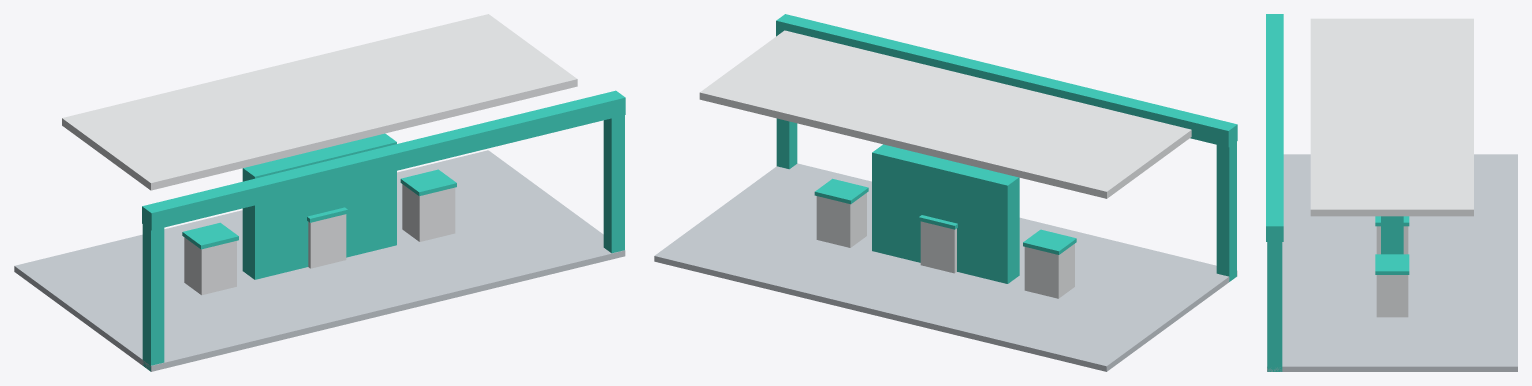
3 renders of one model, left to right at view 1: azimuth 30°, elevation 25°; view 2: azimuth 150°, elevation 25°; view 3: azimuth 270°, elevation 25°, orthographic. The views are drawn at different scales.
Visible parts, largest first — view 1: Exhibition Booth Concept; view 2: Exhibition Booth Concept; view 3: Exhibition Booth Concept.
Boxes of the visible parts, x1,y1,x2,y2 form: Exhibition Booth Concept: (14,14,625,371); Exhibition Booth Concept: (654,14,1237,371); Exhibition Booth Concept: (1266,14,1517,371).
Bounding box in the file's own units: 10 × 3.34 × 5.02.
